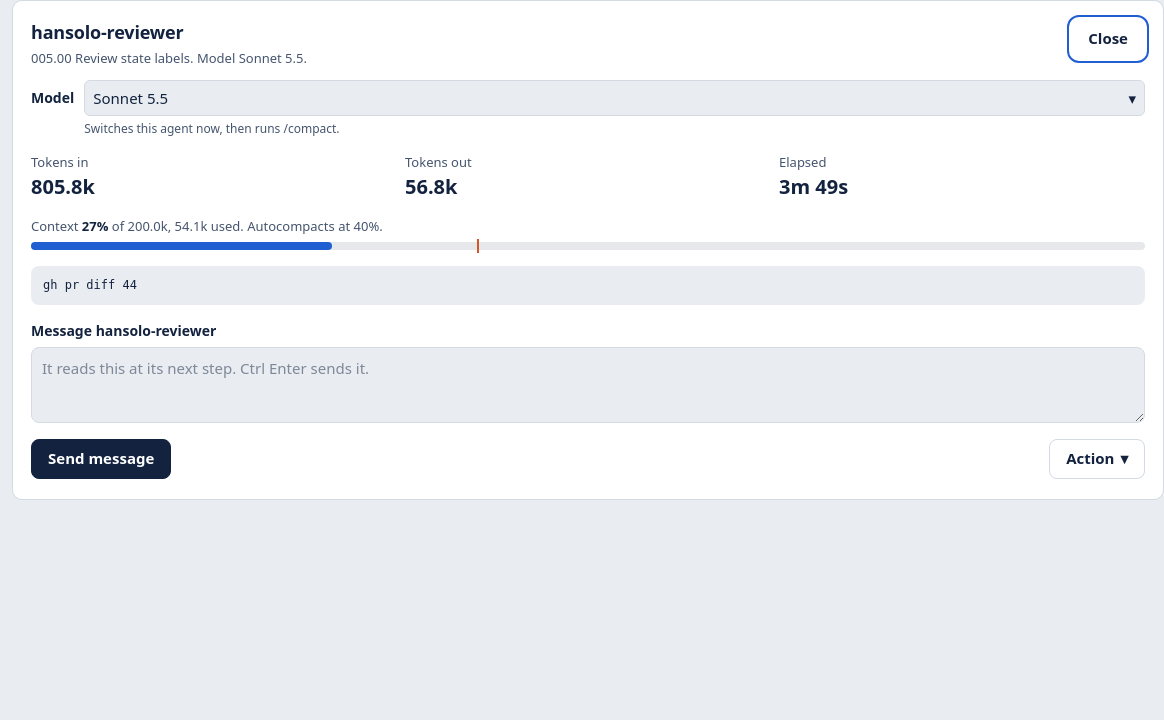
Test: AgentDrawer › Action ▸ Hold for now sends hold
This screenshot has width=1164, height=720.
Click the button "Action ▾". click: (1097, 459)
box: [1049,439,1145,479]
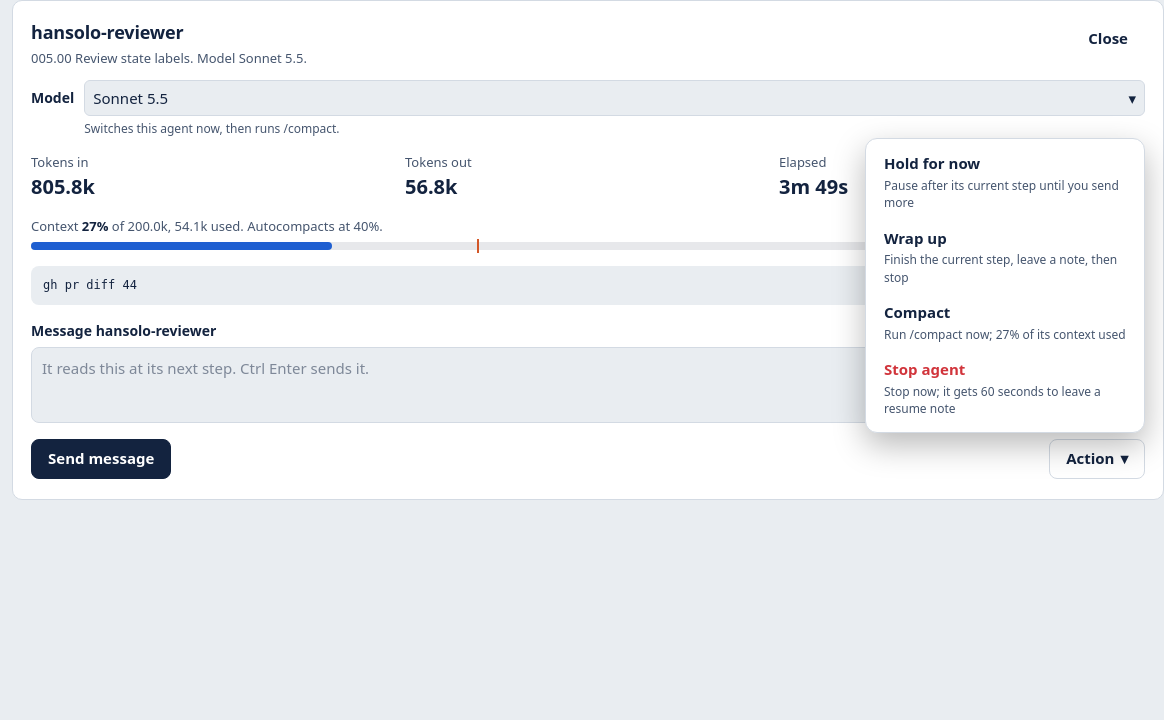
Expected: the text "Run /compact now; 27% of its context used" is shown, [884,326,1126,343]
Click the text "Hold for now". click: (932, 164)
box: [884,153,980,175]
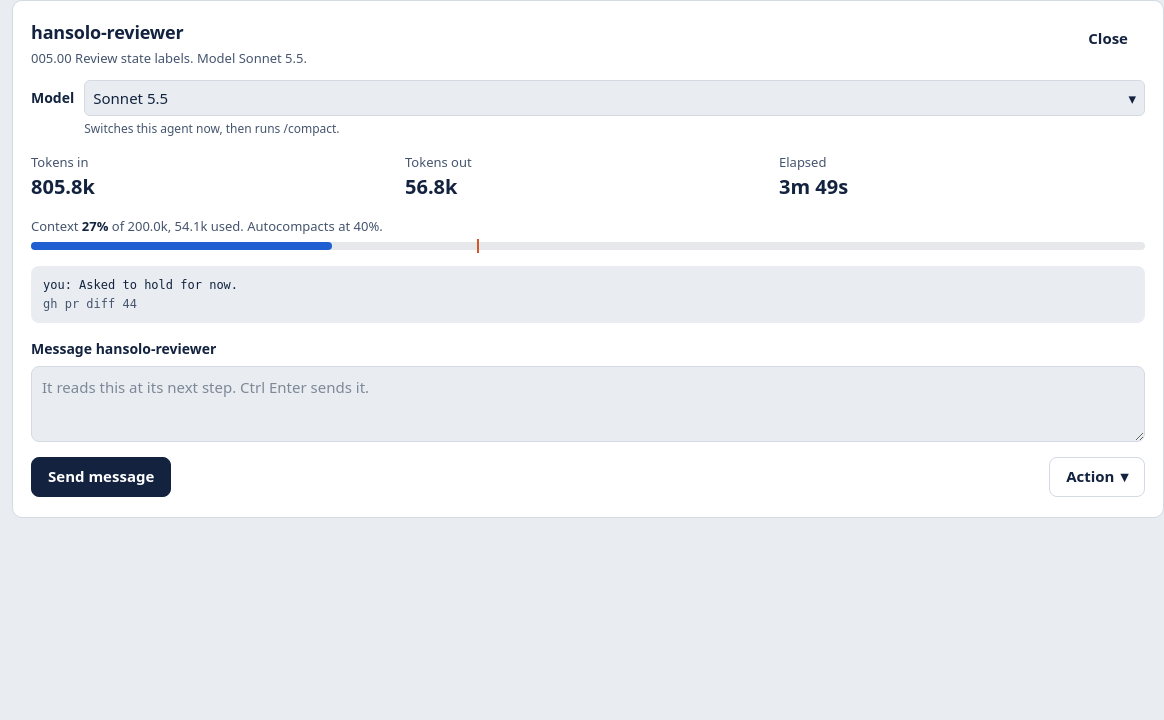
Expected: the list item "you: Asked to hold for now." is shown, [43,278,238,292]
